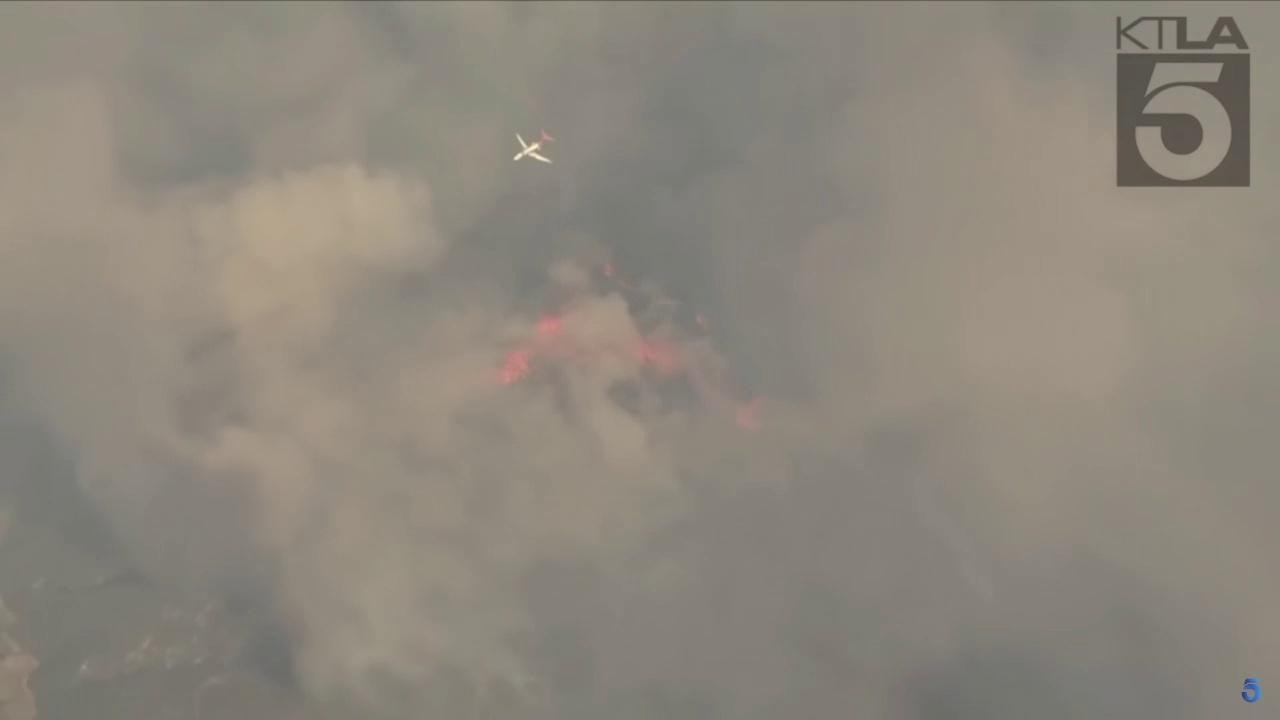fire: (485, 317, 564, 388), (616, 336, 681, 372), (737, 394, 764, 431)
smoke: (0, 0, 1280, 720)
